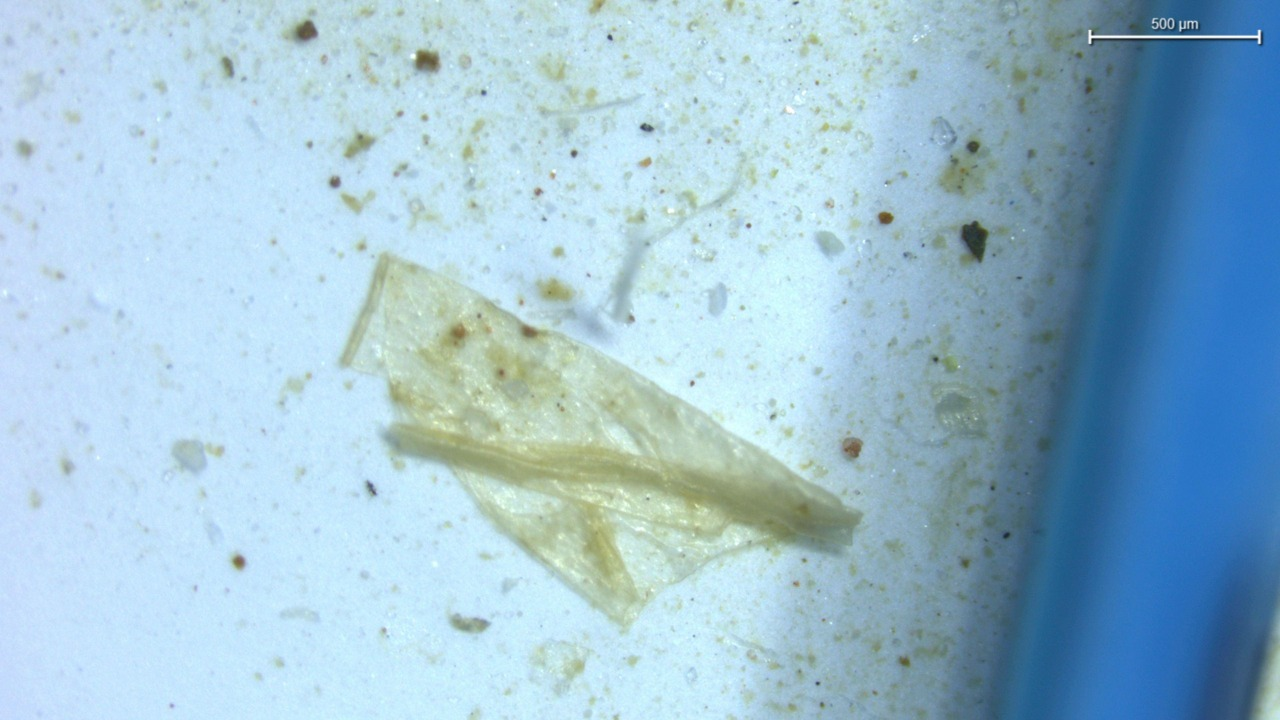microplastic_fragment: (340, 255, 861, 625)
